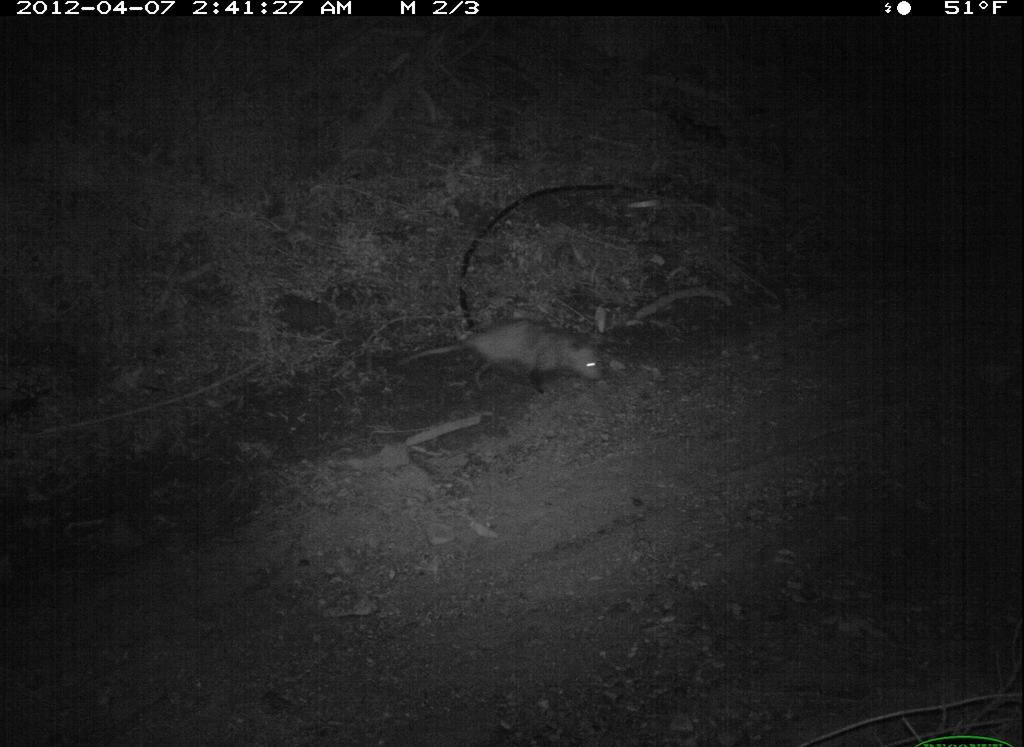opossum: (409, 306, 617, 405)
